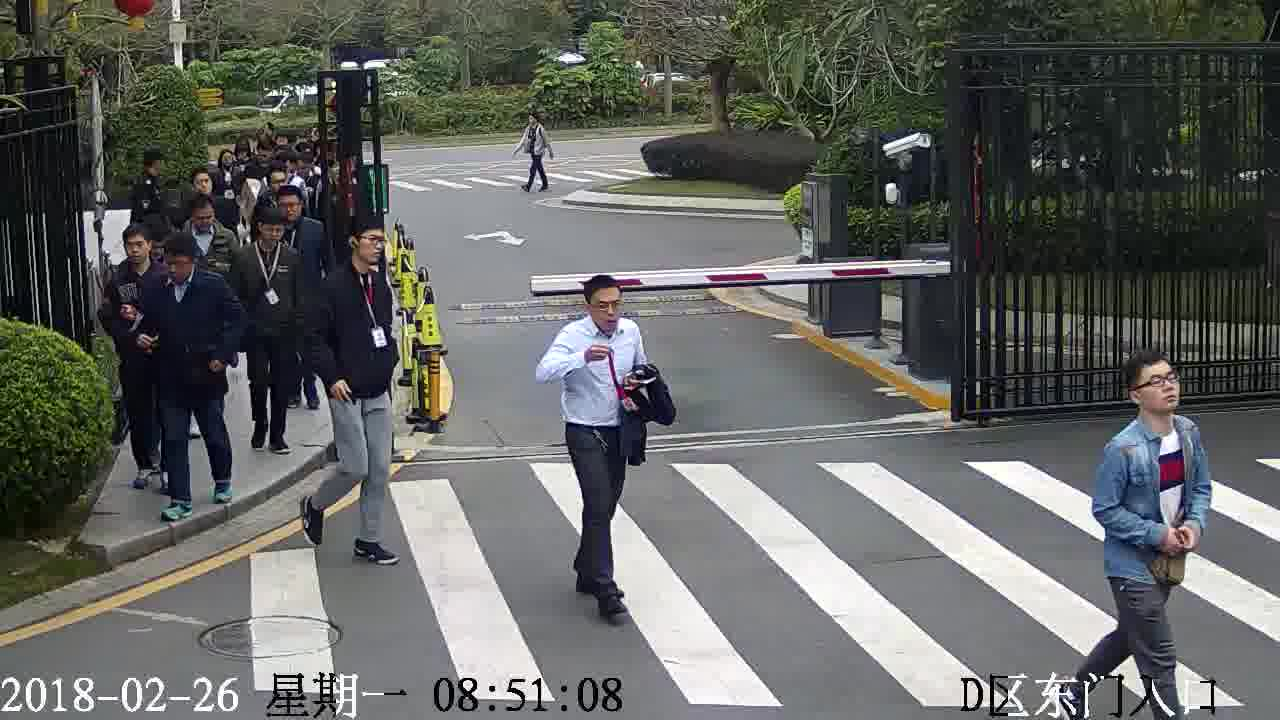face: (1131, 364, 1182, 415), (584, 287, 628, 331), (355, 228, 387, 267), (125, 231, 152, 264)
person: (1106, 352, 1203, 462), (553, 276, 642, 353), (143, 228, 227, 304), (326, 222, 391, 292), (235, 203, 301, 271), (108, 221, 162, 289), (273, 182, 325, 242), (178, 193, 236, 245), (185, 163, 238, 211), (255, 161, 295, 204), (133, 145, 168, 194), (210, 143, 246, 178), (519, 106, 551, 142)
